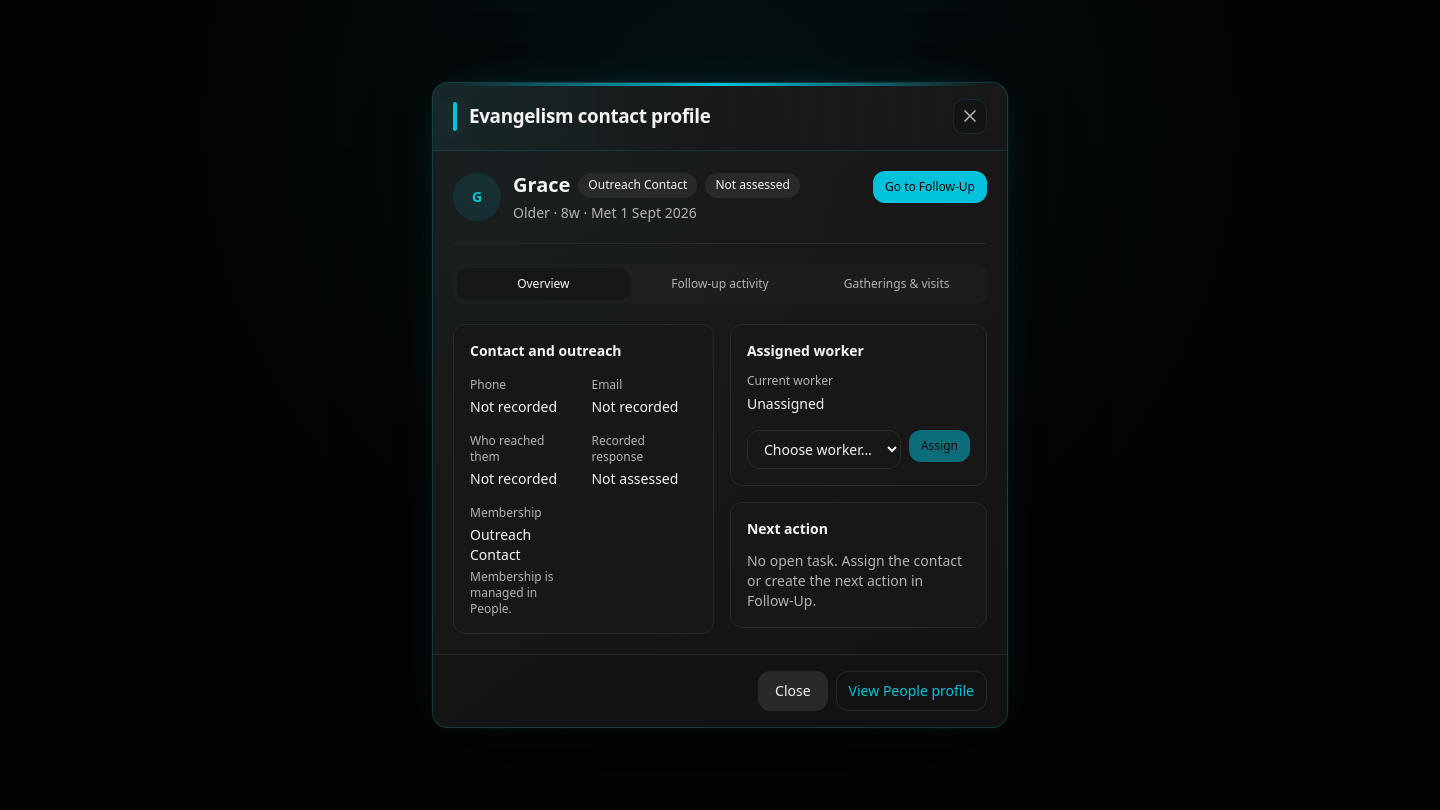
Test: Evangelism contact details › keeps Sunday context in the Gatherings tab
This screenshot has width=1440, height=810.
Expected: the text "This Sunday" is not shown
Click the button "Gatherings & visits".
click(897, 284)  # box [810,268,983,300]
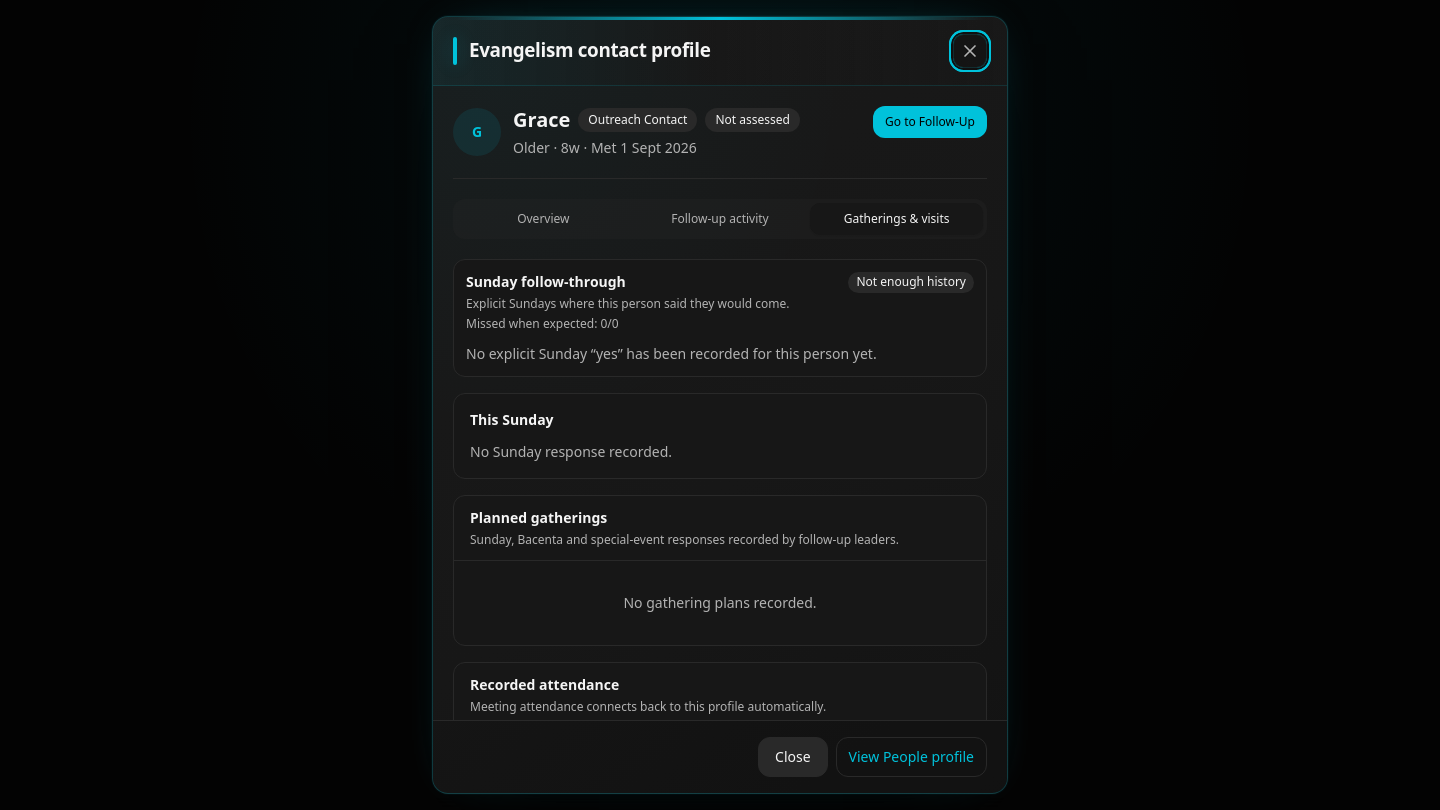
Expected: the heading "This Sunday" is shown, [470,410,554,429]
Expected: the heading "Recorded attendance" is shown, [470,675,619,694]
